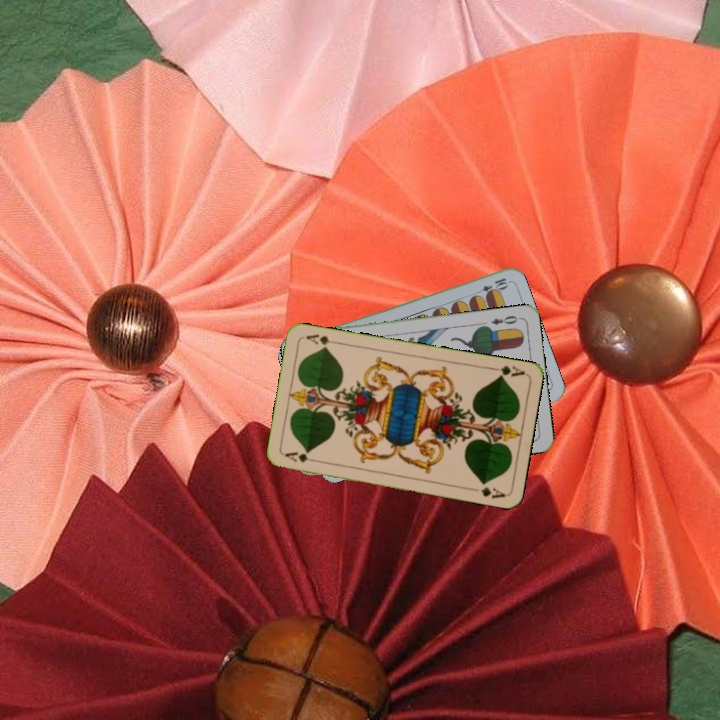E10: (471, 274, 510, 298)
EO: (487, 311, 523, 327)
GA: (487, 361, 527, 381), (281, 448, 321, 465)
